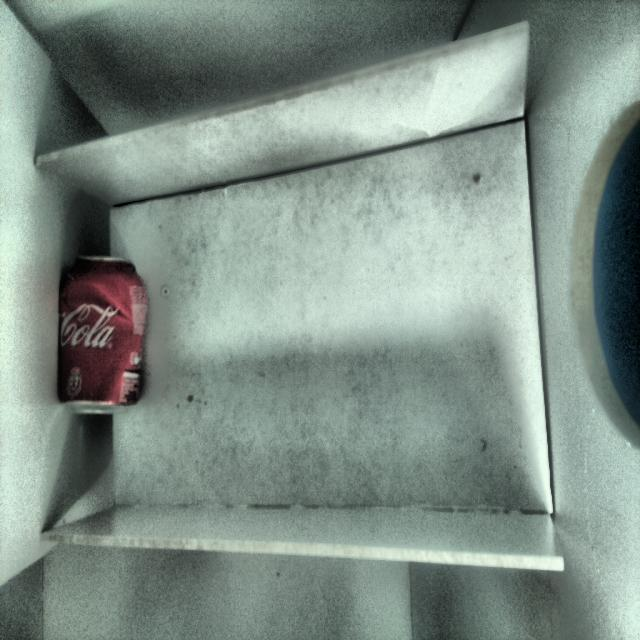Cans: (44, 234, 155, 426)
